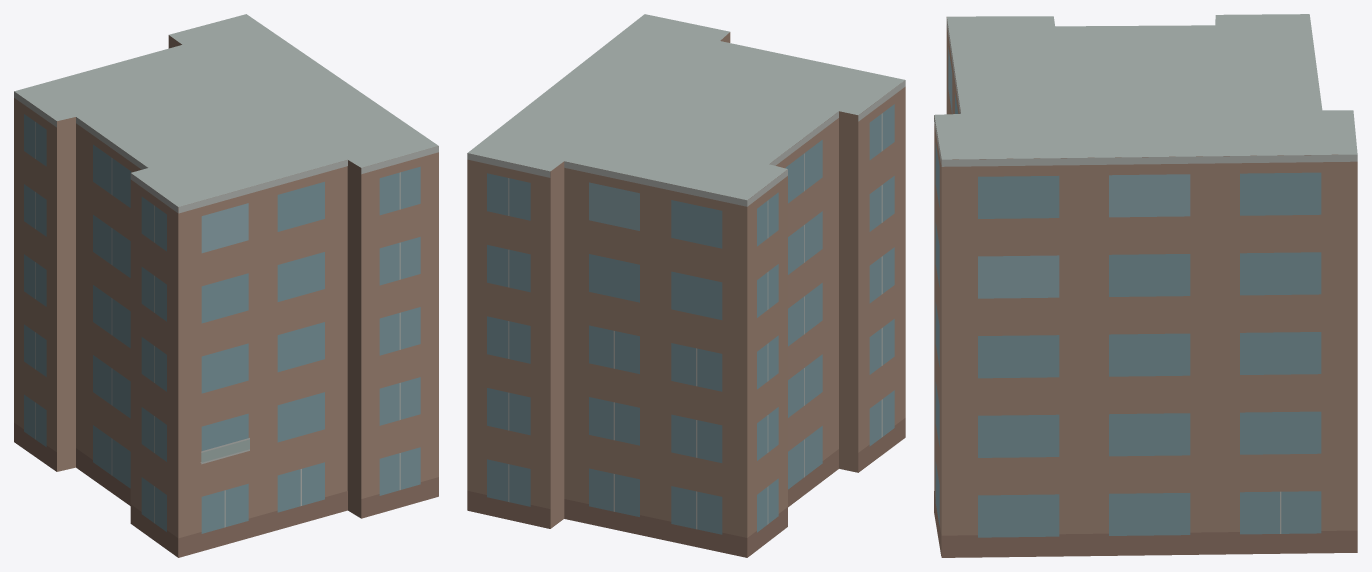
Rendered from survey-upis-32699422.glb.
The picture shows the model from 3 angles, left to right: view 1: azimuth 30°, elevation 25°; view 2: azimuth 150°, elevation 25°; view 3: azimuth 270°, elevation 25°; orthographic projection. The views are drawn at different scales.
Visible parts, largest first — view 1: survey-upis-32699422.tmp; view 2: survey-upis-32699422.tmp; view 3: survey-upis-32699422.tmp.
Part boxes in pixels (x1,y1,x2,y2): survey-upis-32699422.tmp: (14, 14, 438, 557); survey-upis-32699422.tmp: (467, 14, 905, 557); survey-upis-32699422.tmp: (934, 14, 1357, 557).
Bounding box in the file's own units: 10.49 × 13.37 × 12.89.
